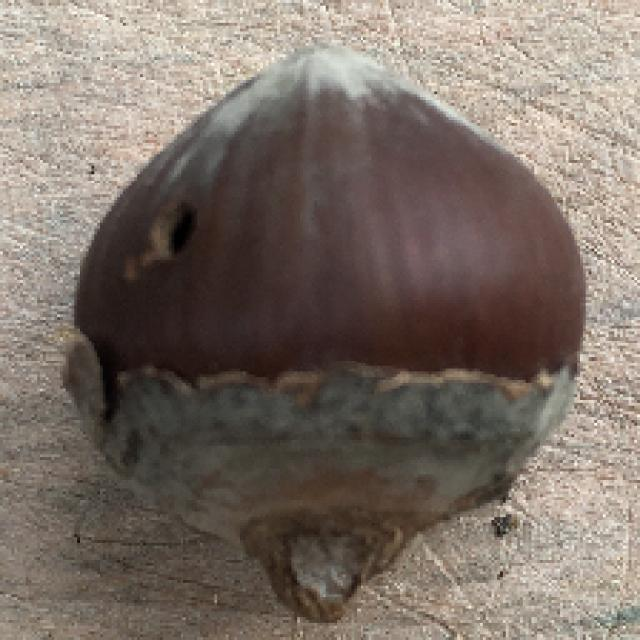damagedHazelnut: (63, 31, 640, 608)
